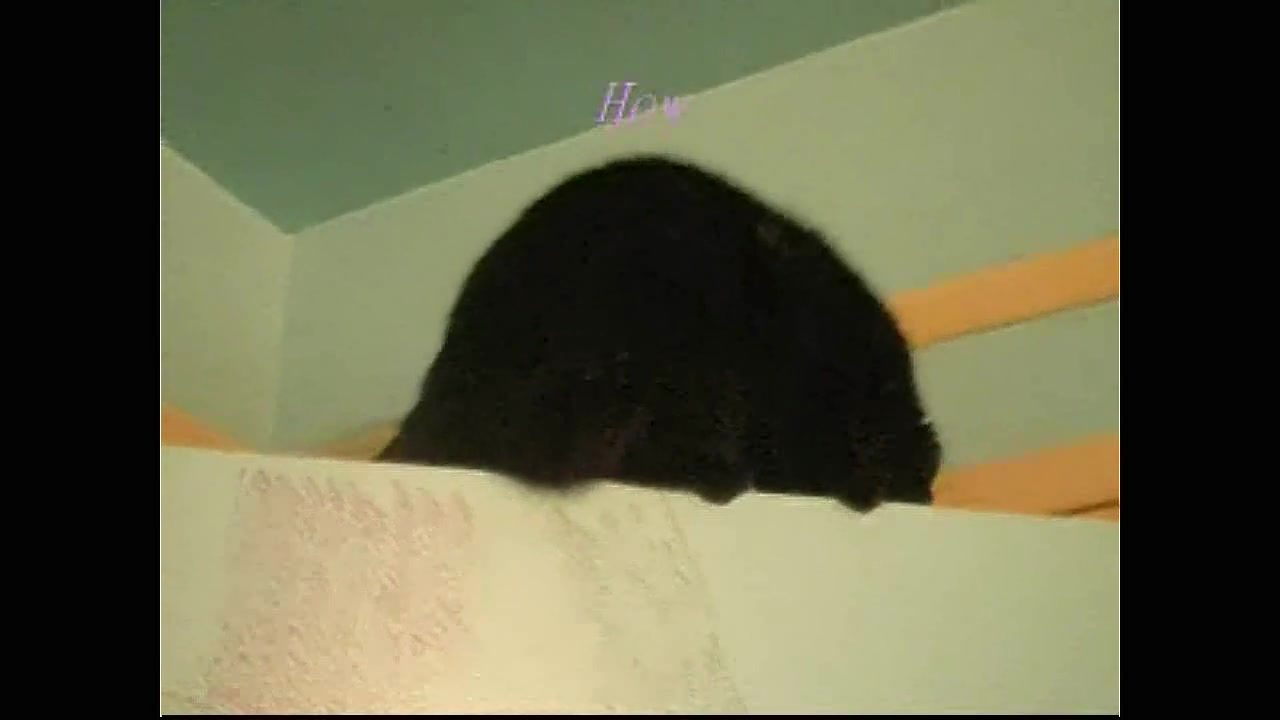cat: (383, 146, 944, 512)
